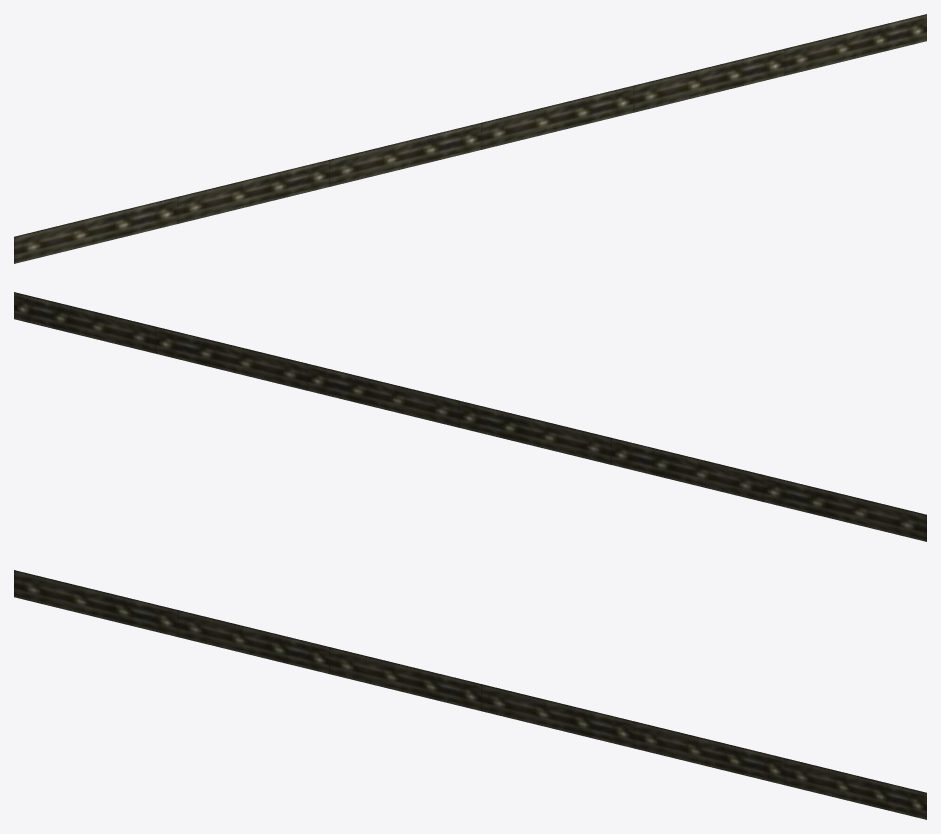
The model's file is general_frame_bottom.fbx.
3 renders of one model, top to bottom at view 1: azimuth 30°, elevation 25°; view 2: azimuth 150°, elevation 25°; view 3: azimuth 330°, elevation 25°, orthographic.
Visible parts, largest first — view 1: frame_bottom; view 2: frame_bottom; view 3: frame_bottom.
Part boxes in pixels (<box>): frame_bottom: <box>14,14,926,263</box>; frame_bottom: <box>14,292,926,541</box>; frame_bottom: <box>14,570,926,819</box>.
Bounding box in the file's own units: 239 × 6.8 × 1.01e-06.
1 material, 1 textured.
